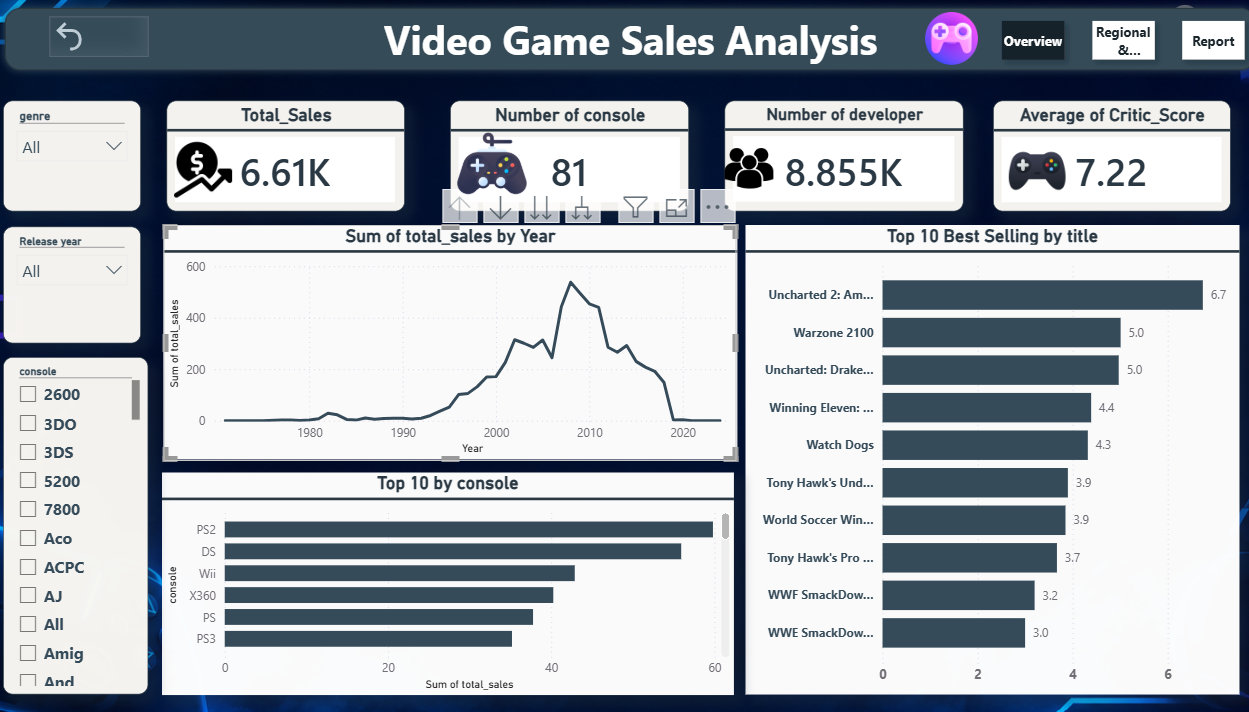

This screenshot's page, from the dashboard's own definition file:
{"tool":"powerbi","page":{"name":"Overview","canvas":[1280,720],"ordinal":0},"visuals":[{"type":"actionButton","box":[1179.6,0,99.9,39.4],"z":0},{"type":"shape","title":"video games","box":[0,0,1279,78.9],"z":1000},{"type":"cardVisual","title":" Total_Sales","fields":{"Data":["Sum(Table.total_sales)"]},"box":[171.1,101.5,240.8,112.1],"z":2000},{"type":"cardVisual","title":"Number of console","fields":{"Data":["Count(Table.console)"]},"box":[457.9,101.1,241.6,112.1],"z":3000},{"type":"cardVisual","title":"Number of developer","fields":{"Data":["Count(Table.developer)"]},"box":[734.2,101.1,241.6,112.1],"z":4000},{"type":"cardVisual","title":"Average of Critic_Score","fields":{"Data":["Avg(Table.critic_score)"]},"box":[1005.8,101.1,240,112.1],"z":5000},{"type":"lineChart","fields":{"Y":["Sum(Table.total_sales)"],"Category":["Table.release_date.Variation.Date Hierarchy.Year","Table.release_date.Variation.Date Hierarchy.Month"]},"box":[167.4,227.4,579.5,236.8],"z":6000},{"type":"barChart","title":"Top 10 Best Selling by title","fields":{"Category":["Table.title"],"Y":["Sum(Table.total_sales)"]},"box":[756.3,227.4,499,473.7],"z":7000},{"type":"barChart","title":"Top 10 by console","fields":{"Category":["Table.console","Table.genre"],"Y":["Sum(Table.total_sales)"]},"box":[167.3,477.3,577.4,224.7],"z":8000},{"type":"slicer","fields":{"Values":["Table.genre"]},"box":[6.1,101.5,139.3,112.1],"z":9000},{"type":"slicer","fields":{"Values":["Table.Release year"]},"box":[6.1,228.6,139.3,118.1],"z":10000},{"type":"slicer","fields":{"Values":["Table.console"]},"box":[6.1,360.4,146.9,340.7],"z":11000},{"type":"actionButton","box":[53.4,17.1,100.3,40.6],"z":12000},{"type":"image","box":[894.4,12,137.3,53.2],"z":13000},{"type":"image","box":[145.9,140.8,125.3,58.4],"z":14000},{"type":"image","box":[440.6,130.2,118.1,69.7],"z":15000},{"type":"image","box":[734.4,140.8,49,58],"z":16000},{"type":"image","box":[1016,143.8,68.1,57.5],"z":17000},{"type":"pageNavigator","box":[1005.4,12.1,263.5,57.5],"z":18000}]}

Visuals, with their boxes in screenshot pixels (x1, y1, x2, y2), scaled from the page's 1280x720 canvas onto the 1249x712 screenshot:
actionButton: <box>1151,0,1248,39</box>
"video games" shape: <box>0,0,1248,78</box>
" Total_Sales" cardVisual: <box>167,100,402,211</box>
"Number of console" cardVisual: <box>447,100,683,211</box>
"Number of developer" cardVisual: <box>716,100,952,211</box>
"Average of Critic_Score" cardVisual: <box>981,100,1216,211</box>
lineChart - Sum(Table.total_sales) x Table.release_date.Variation.Date Hierarchy.Year: <box>163,225,729,459</box>
"Top 10 Best Selling by title" barChart: <box>738,225,1225,693</box>
"Top 10 by console" barChart: <box>163,472,727,694</box>
slicer - Table.genre: <box>6,100,142,211</box>
slicer - Table.Release year: <box>6,226,142,343</box>
slicer - Table.console: <box>6,356,149,693</box>
actionButton: <box>52,17,150,57</box>
image: <box>873,12,1007,64</box>
image: <box>142,139,265,197</box>
image: <box>430,129,545,198</box>
image: <box>717,139,764,197</box>
image: <box>991,142,1058,199</box>
pageNavigator: <box>981,12,1238,69</box>
